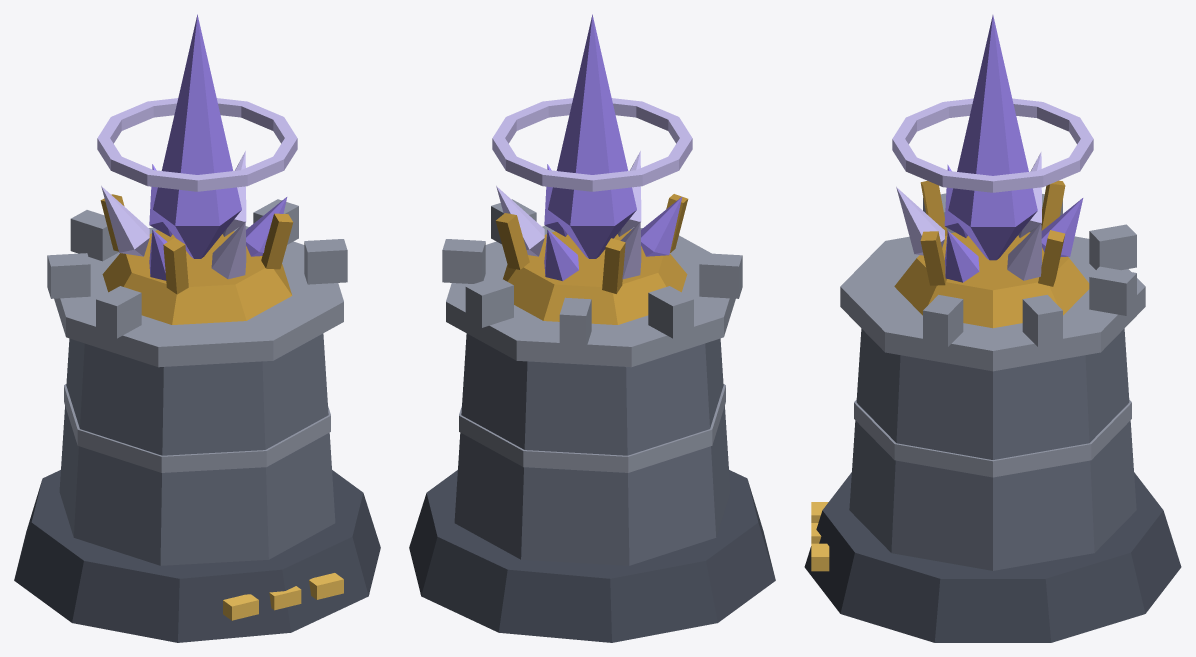
The model's file is frost-spire-2.glb.
The picture shows the model from 3 angles, left to right: view 1: azimuth 30°, elevation 25°; view 2: azimuth 150°, elevation 25°; view 3: azimuth 270°, elevation 25°; orthographic projection.
Visible parts, largest first — view 1: frost-spire-2; view 2: frost-spire-2; view 3: frost-spire-2.
Part boxes in pixels (bbox=[...]): frost-spire-2: bbox=[14, 14, 380, 642]; frost-spire-2: bbox=[409, 14, 775, 642]; frost-spire-2: bbox=[804, 15, 1181, 642].
Size of the model in its own units: 0.7989 by 1.36 by 0.84.
Materials: 1 (1 with a texture image).
